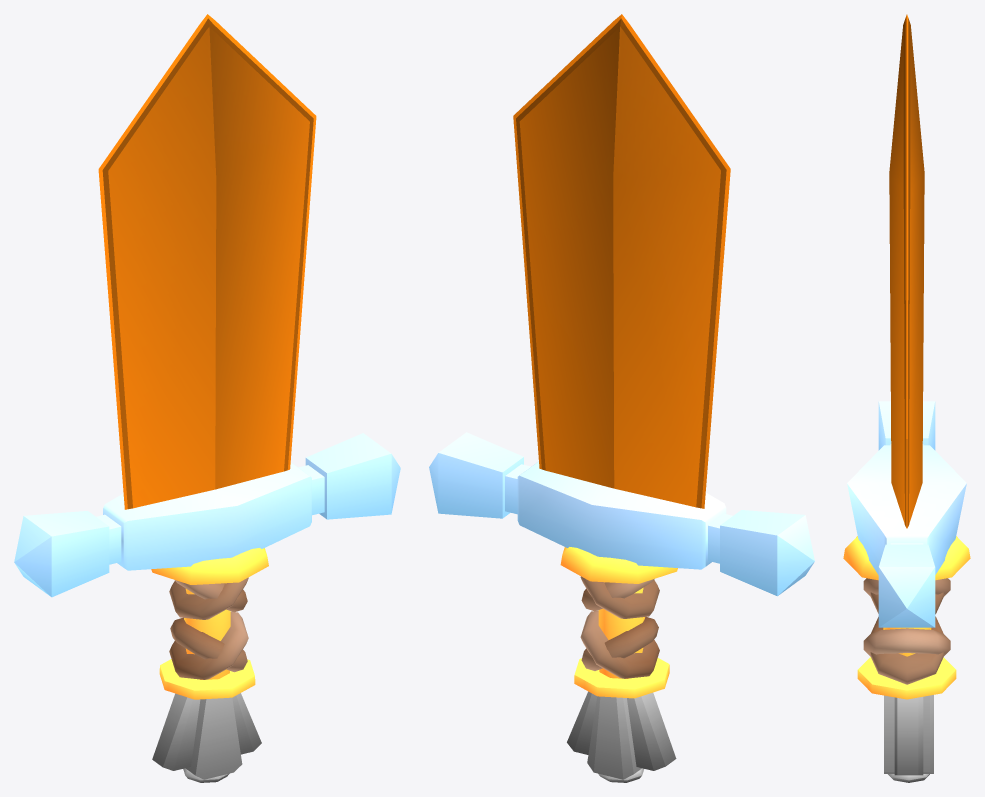
Rendered from example_sword_016.glb.
The picture shows the model from 3 angles, left to right: view 1: azimuth 30°, elevation 25°; view 2: azimuth 150°, elevation 25°; view 3: azimuth 270°, elevation 25°; orthographic projection.
Visible parts, largest first — view 1: example_sword.016; view 2: example_sword.016; view 3: example_sword.016.
Part boxes in pixels (x1,y1,x2,y2): example_sword.016: [14, 14, 400, 782]; example_sword.016: [429, 14, 814, 782]; example_sword.016: [843, 14, 970, 782].
Bounding box in the file's own units: 9.16 × 17.25 × 2.62.
Materials: 1 (1 with a texture image).
